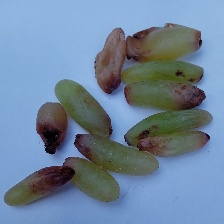grapes: (10, 45, 175, 200)
